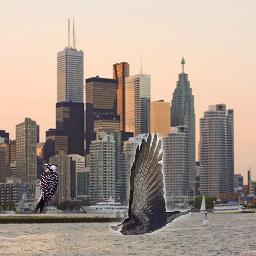Crow: (109, 133, 191, 235)
Woodpecker: (34, 162, 58, 214)
